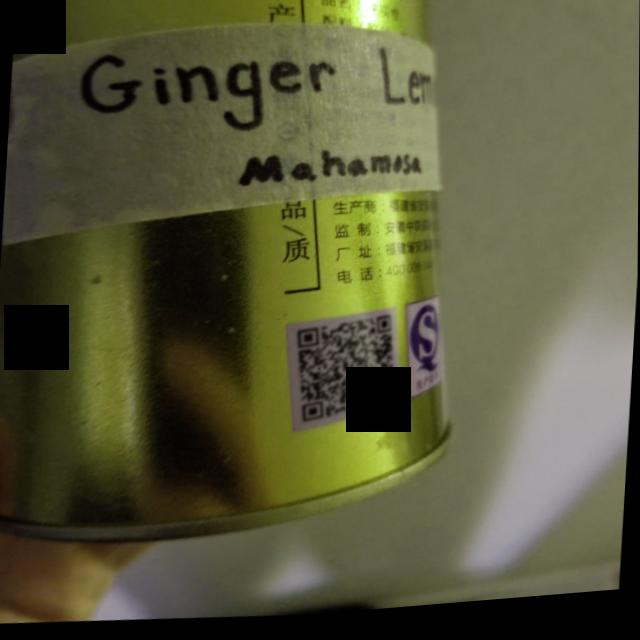QR_CODE: (283, 302, 412, 438)
